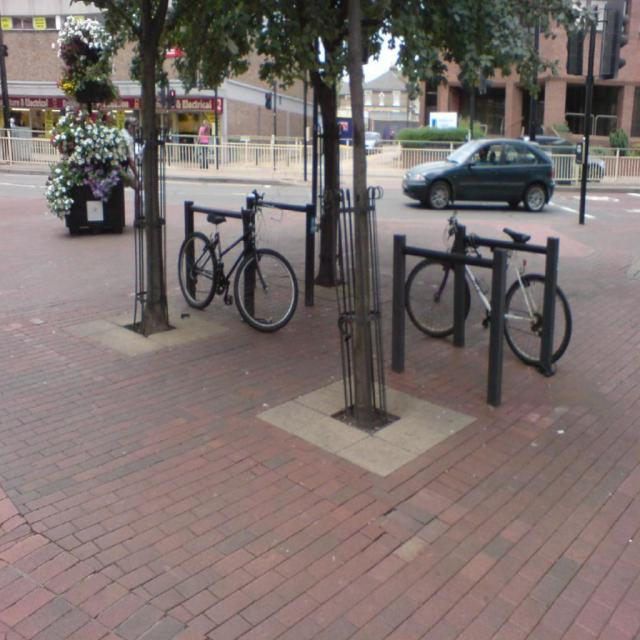other: (409, 128, 562, 208), (524, 132, 606, 188), (364, 129, 383, 154)
